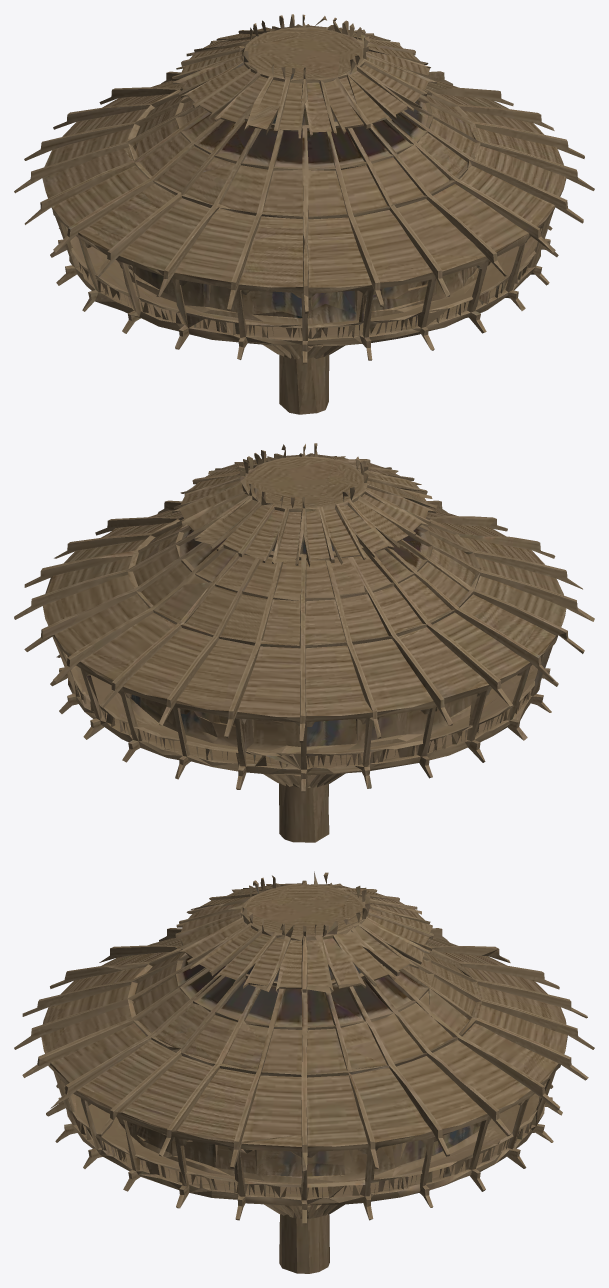
The model's file is wookieehouse.glb.
3 views of the same model, one above another, from view 1: azimuth 30°, elevation 25°; view 2: azimuth 150°, elevation 25°; view 3: azimuth 270°, elevation 25° (orthographic).
Parts seen in each view (by area): view 1: wookieehouse-centred; view 2: wookieehouse-centred; view 3: wookieehouse-centred.
Boxes of the visible parts, box(x1,y1,x2,y2) form: wookieehouse-centred: box(14, 14, 594, 414); wookieehouse-centred: box(14, 443, 594, 842); wookieehouse-centred: box(14, 871, 594, 1273).
Size of the model in its own units: 11.99 by 8.33 by 12.
Materials: 1 (1 with a texture image).
